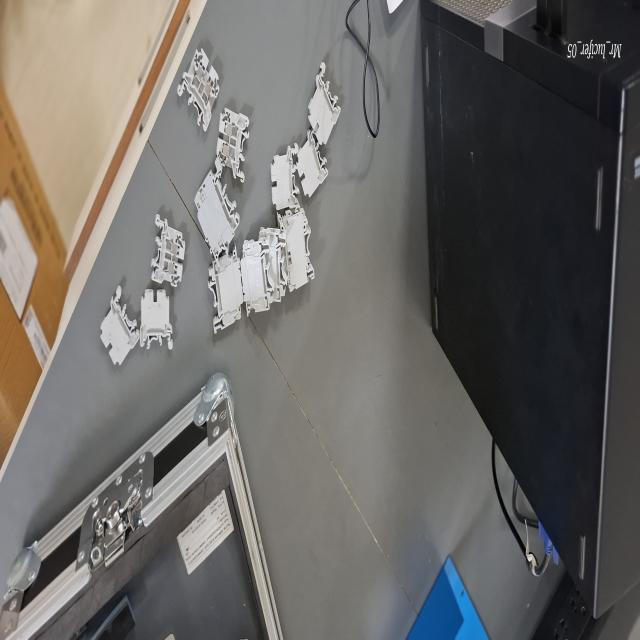Inverted: (96, 282, 140, 368), (139, 287, 175, 355), (296, 132, 330, 200), (270, 143, 302, 212)
Pass: (176, 46, 220, 135), (148, 211, 188, 289), (216, 108, 252, 184)
Reject: (307, 58, 342, 147)
